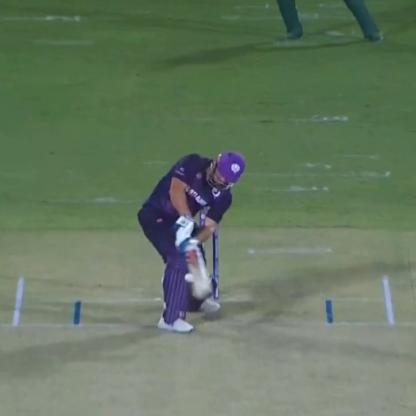ball: (181, 270, 195, 287)
bat: (179, 222, 216, 299)
pitch: (2, 274, 411, 416)
